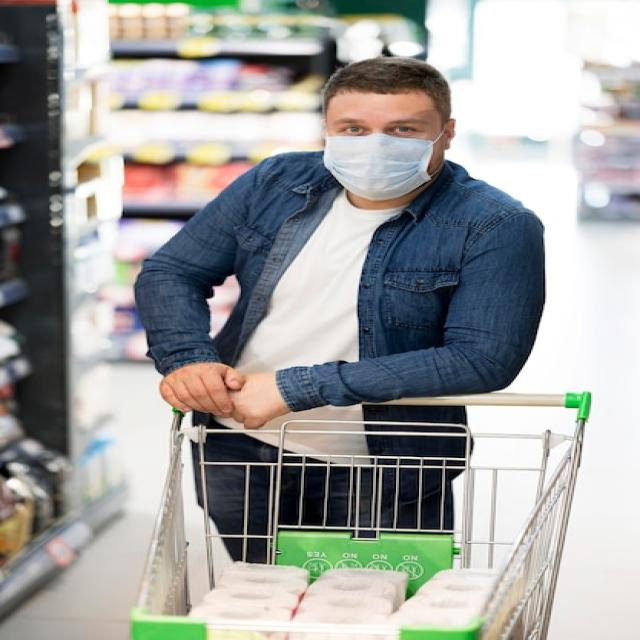Person: (132, 55, 547, 567)
